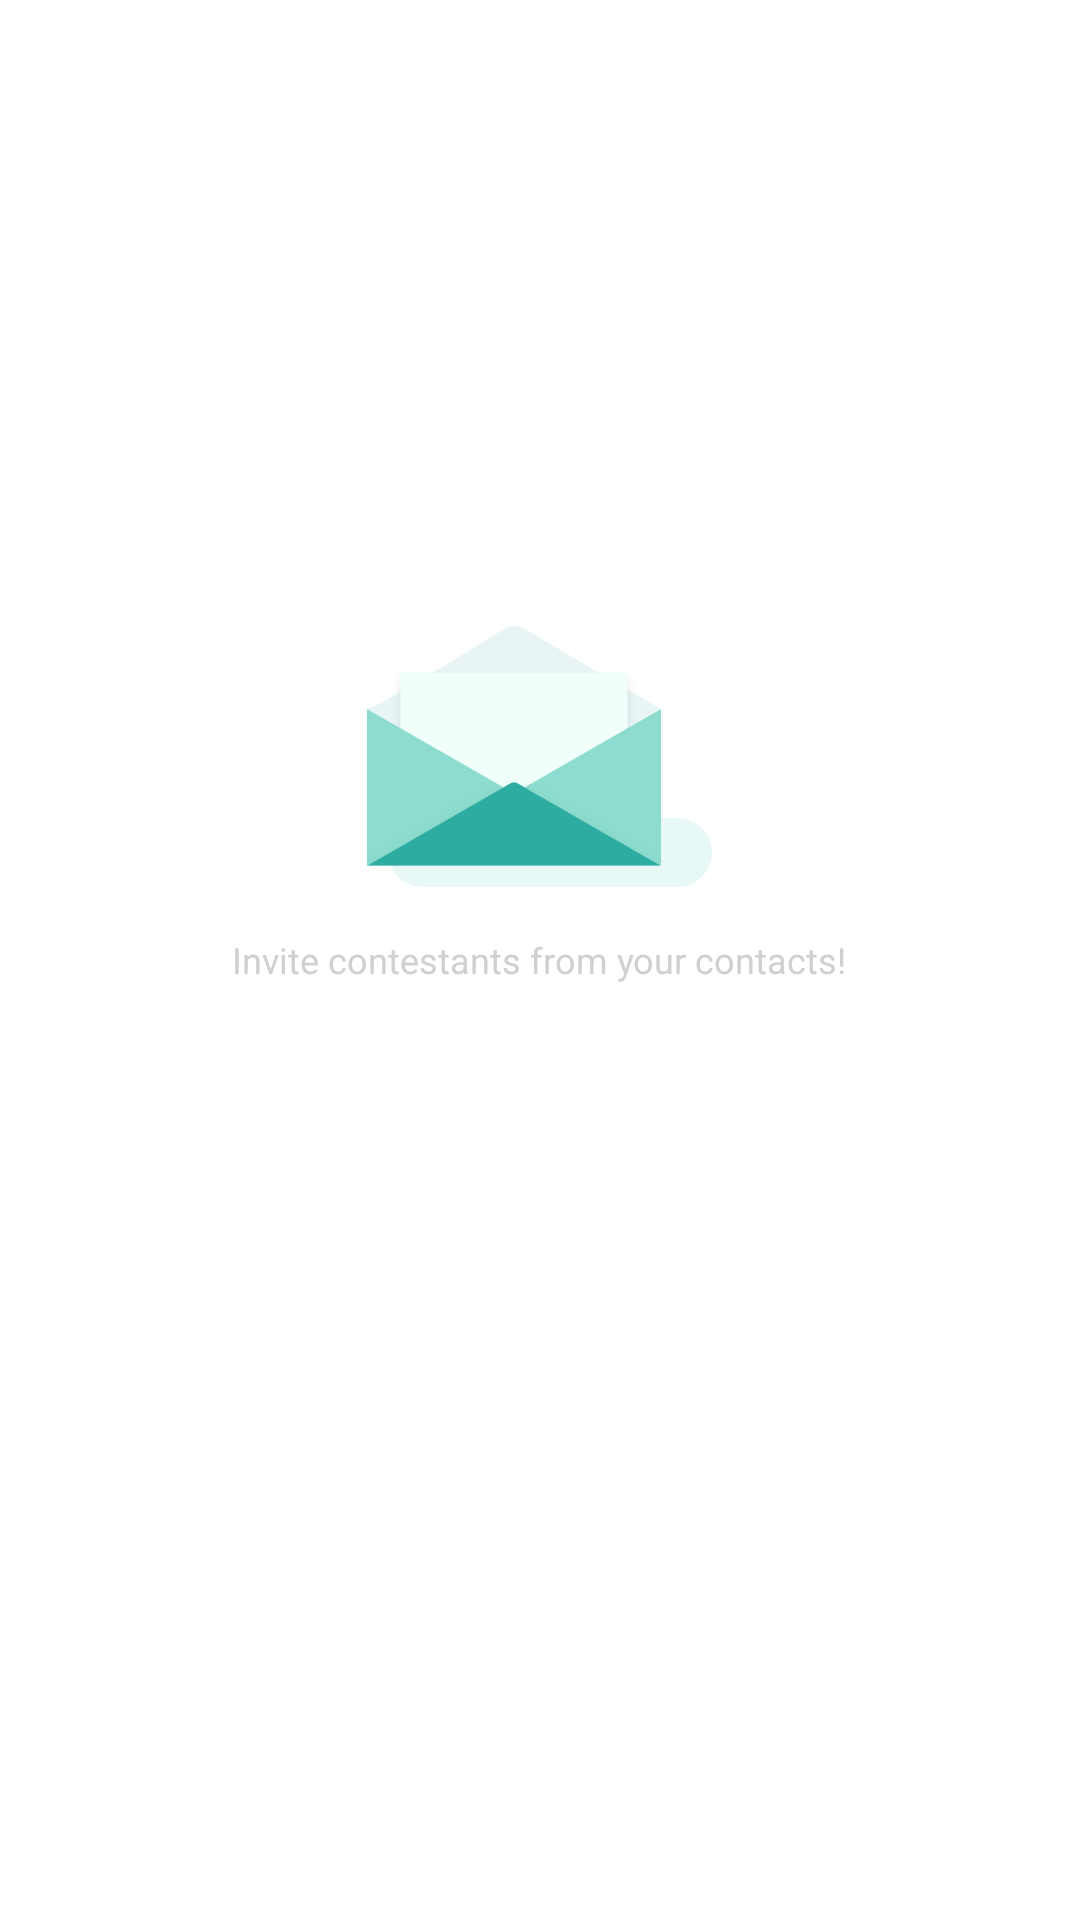

Icon bounding boxes for this 1080 × 1920 phone screenshot, format [x1=x1, y1=y1, x2=x2, y2=y2]:
empty contacts: [x1=367, y1=690, x2=661, y2=866]
